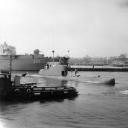submarine: (35, 62, 117, 86)
